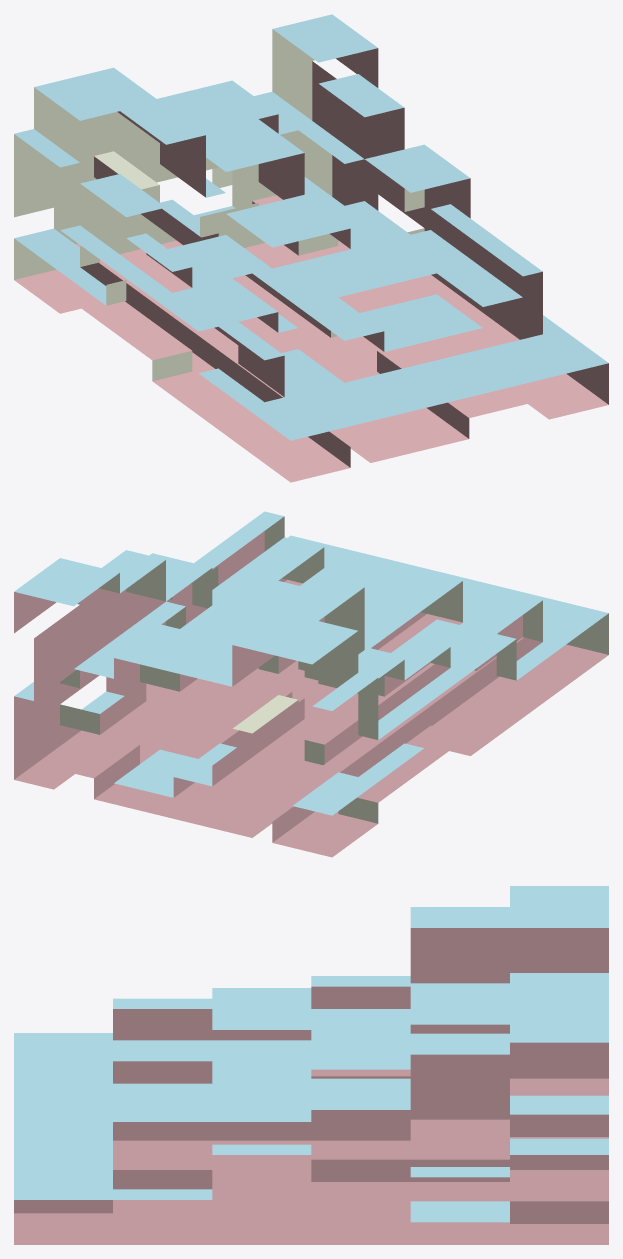
The model's file is shipyard_platform_h_cargopile_c.glb.
3 renders of one model, top to bottom at view 1: azimuth 30°, elevation 25°; view 2: azimuth 150°, elevation 25°; view 3: azimuth 270°, elevation 25°, orthographic. The views are drawn at different scales.
Bounding box in the file's own units: 39.84 × 22.5 × 60.
